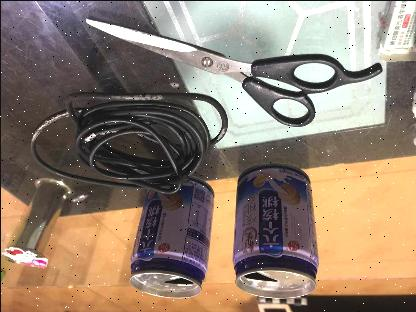Can: (232, 164, 318, 297), (128, 178, 213, 297)
